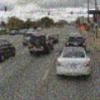cars: (57, 48, 91, 77)
